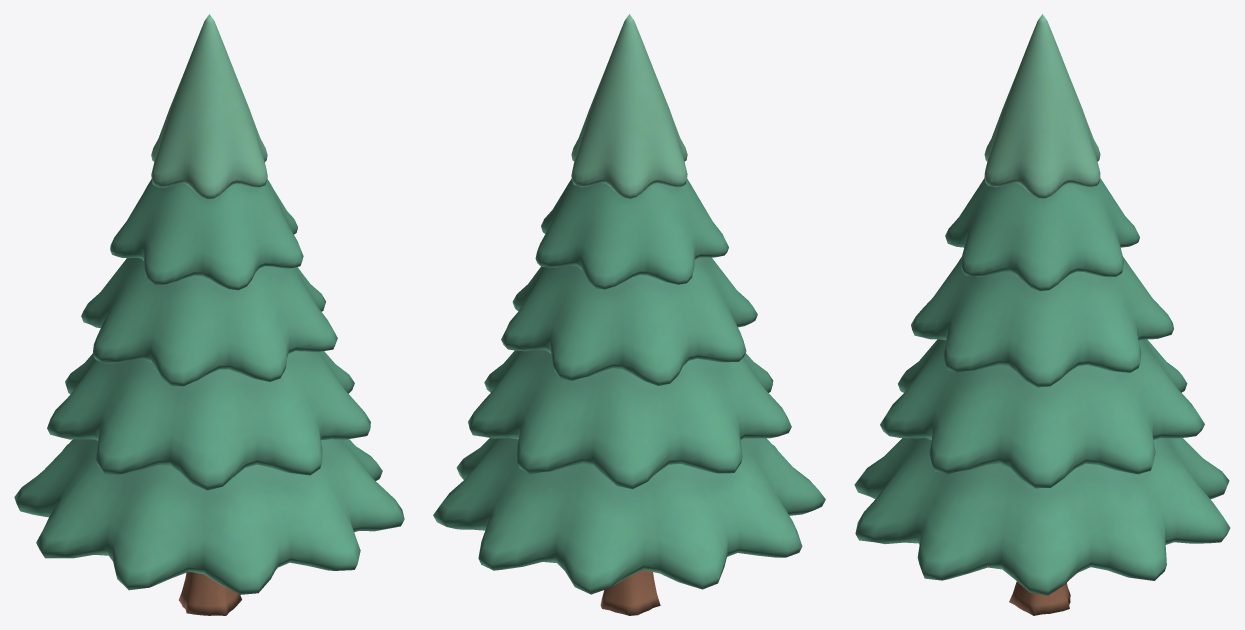
The model's file is coastal-pine.glb.
3 views of the same model, side by side, from view 1: azimuth 30°, elevation 25°; view 2: azimuth 150°, elevation 25°; view 3: azimuth 270°, elevation 25° (orthographic).
Visible parts, largest first — view 1: pine-tree_body; view 2: pine-tree_body; view 3: pine-tree_body.
Part boxes in pixels (left/top/right/bottom): pine-tree_body: left=14, top=14, right=404, bottom=615; pine-tree_body: left=433, top=14, right=825, bottom=615; pine-tree_body: left=854, top=14, right=1230, bottom=615.
Bounding box in the file's own units: 3.45 × 5.7 × 3.3.
1 material, 1 textured.
